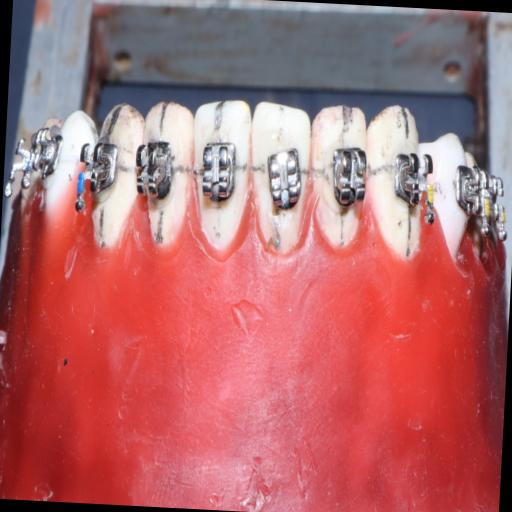correct_brace: (197, 137, 240, 215)
incorrect_brace: (261, 144, 306, 220)
